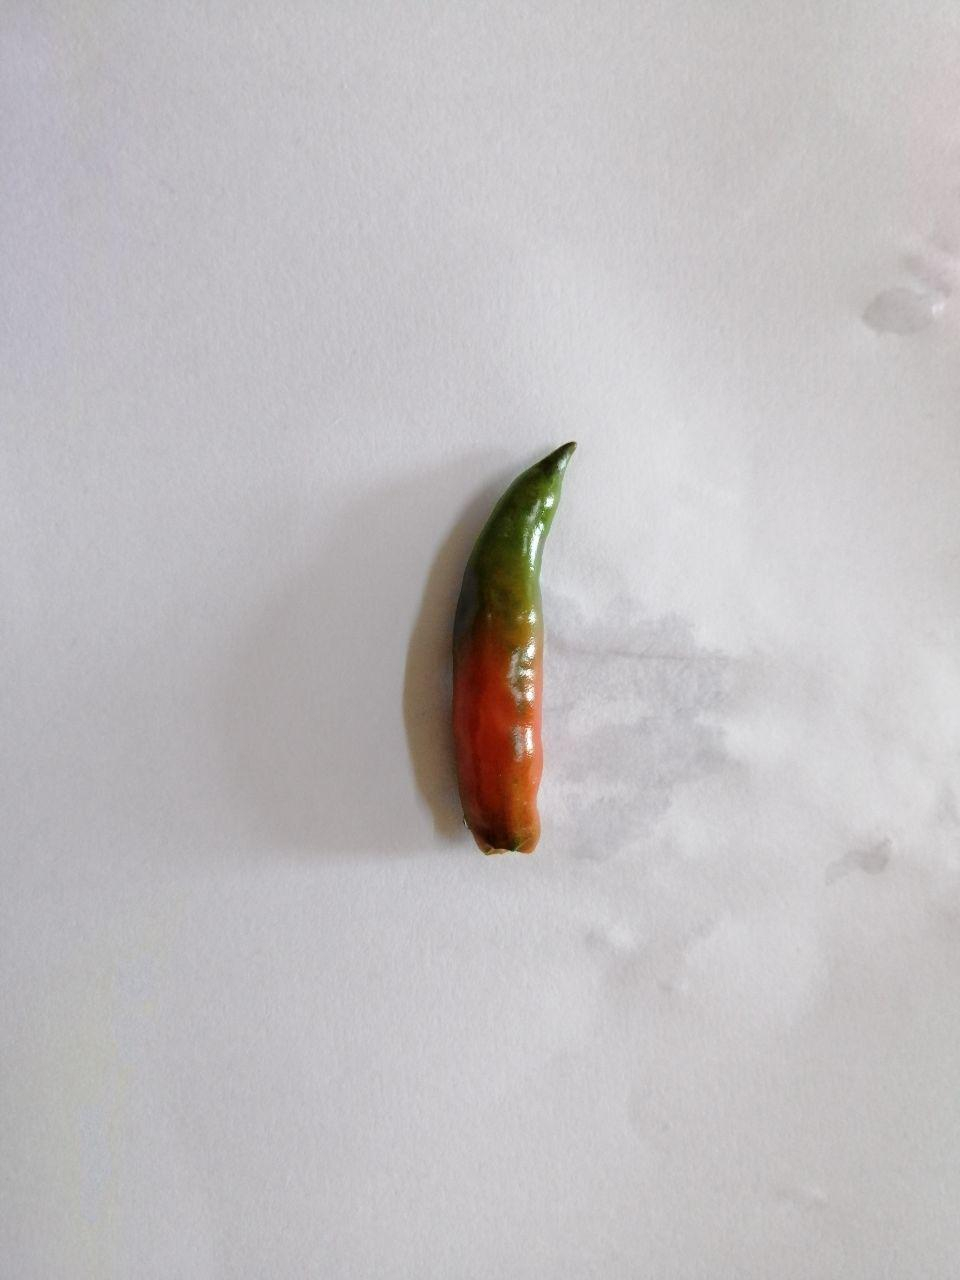lada kuning: (433, 412, 602, 898)
